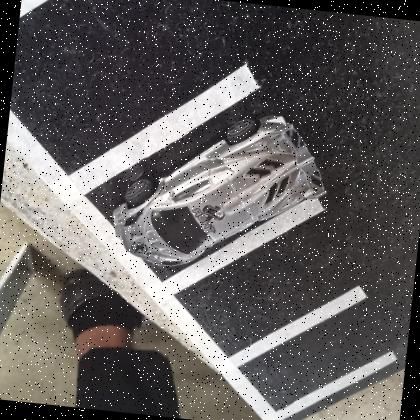Car: (113, 114, 324, 267)
